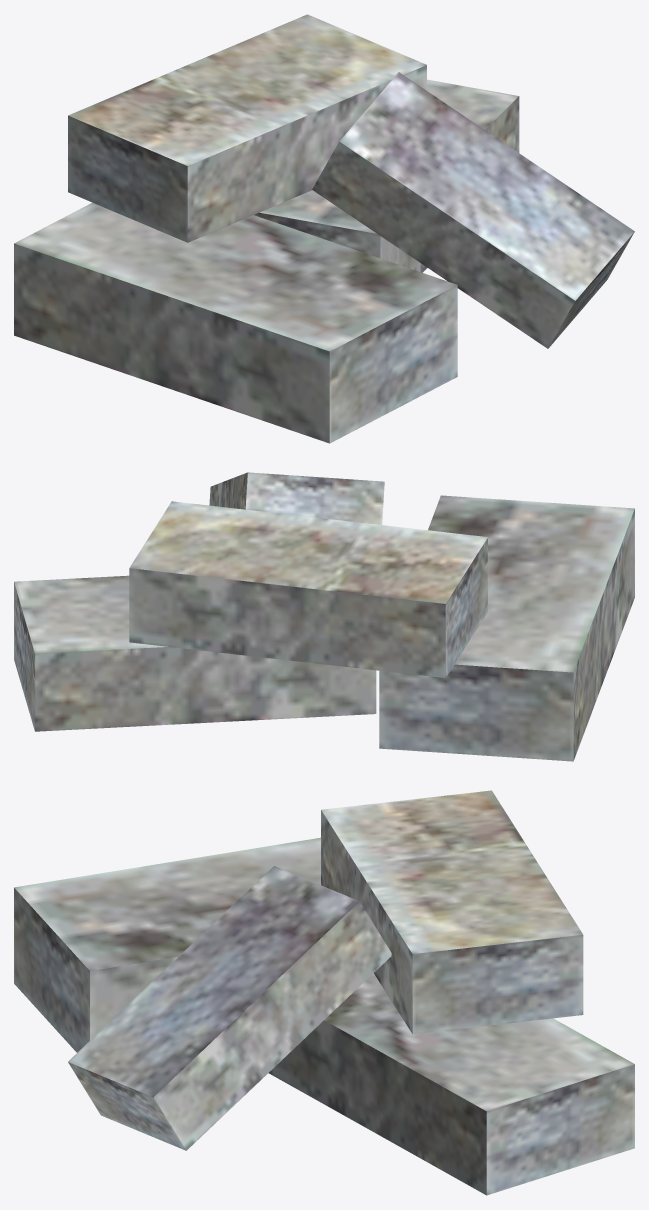
Rendered from d_stone8.glb.
3 renders of one model, top to bottom at view 1: azimuth 30°, elevation 25°; view 2: azimuth 150°, elevation 25°; view 3: azimuth 270°, elevation 25°, orthographic. The views are drawn at different scales.
Visible parts, largest first — view 1: d_stone8; view 2: d_stone8; view 3: d_stone8.
Part boxes in pixels (x1,y1,x2,y2): d_stone8: (14, 14, 634, 443); d_stone8: (14, 472, 634, 761); d_stone8: (14, 790, 634, 1195).
Bounding box in the file's own units: 0.5667 × 0.1932 × 0.5385.
1 material, 1 textured.
